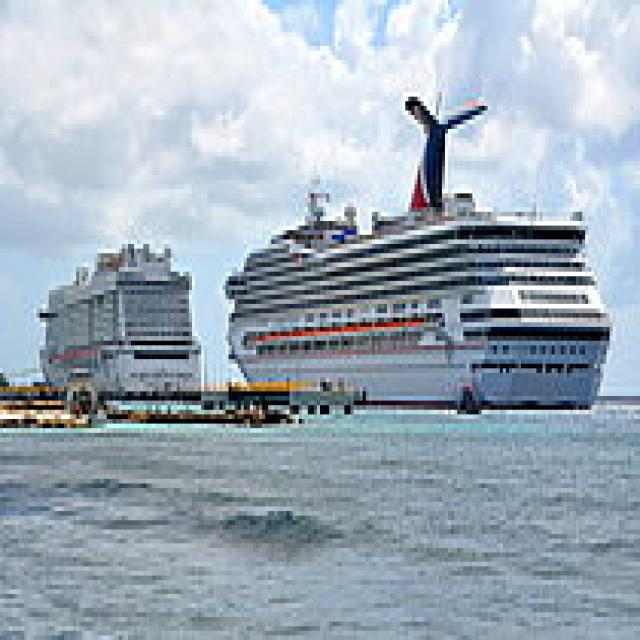Cruise: (217, 78, 612, 410), (28, 234, 201, 400)
